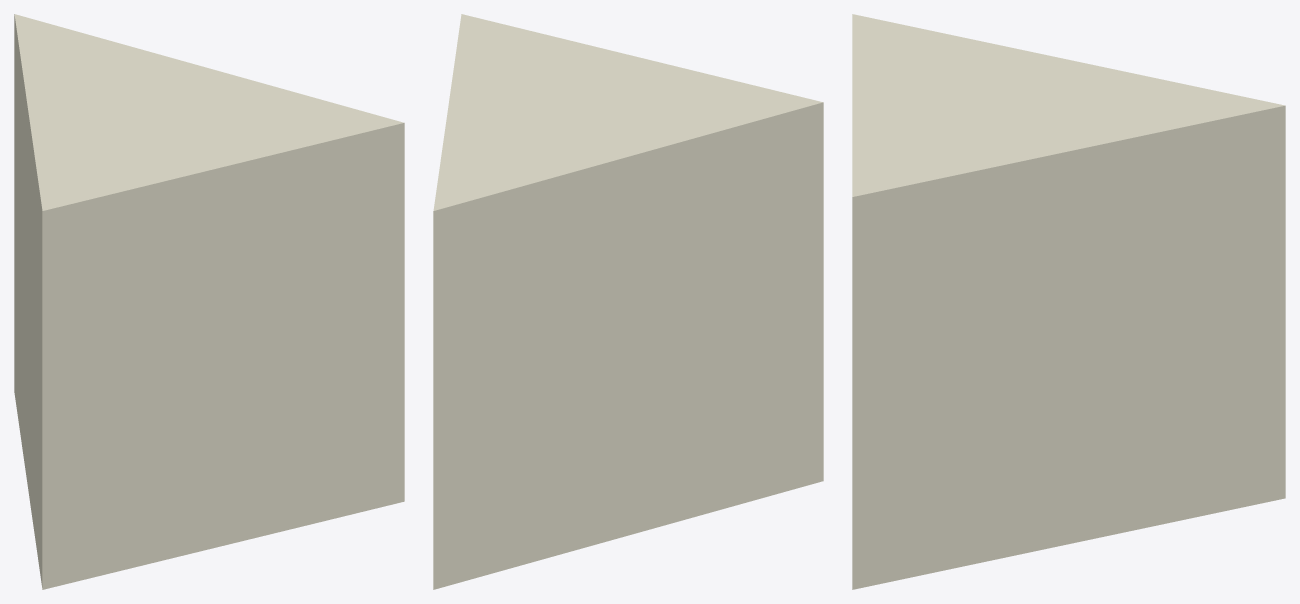
Rendered from Shape_Wedge_A.glb.
The picture shows the model from 3 angles, left to right: view 1: azimuth 30°, elevation 25°; view 2: azimuth 150°, elevation 25°; view 3: azimuth 270°, elevation 25°; orthographic projection. The views are drawn at different scales.
Parts seen in each view (by area): view 1: Shape_Wedge_A; view 2: Shape_Wedge_A; view 3: Shape_Wedge_A.
Boxes of the visible parts, x1=… form: Shape_Wedge_A: x1=14, y1=14, x2=404, y2=589; Shape_Wedge_A: x1=433, y1=14, x2=823, y2=589; Shape_Wedge_A: x1=852, y1=14, x2=1285, y2=589.
Size of the model in its own units: 1 by 1 by 1.
